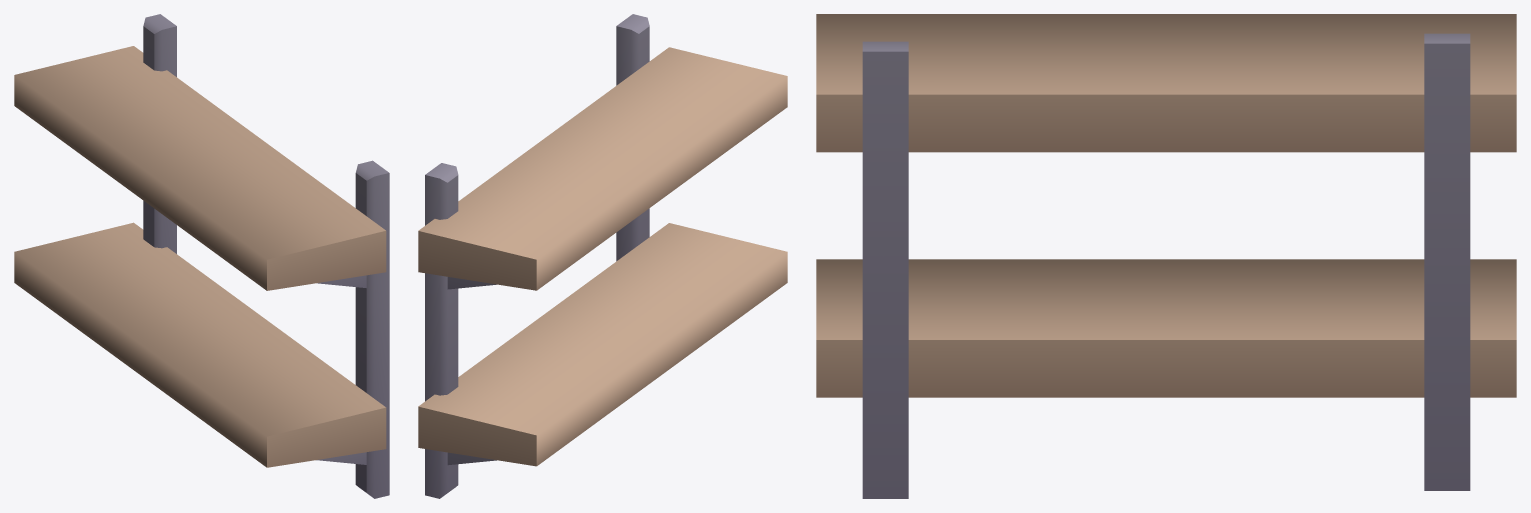
Rendered from shelf-rail-long (%wall)_0.glb.
3 views of the same model, side by side, from view 1: azimuth 30°, elevation 25°; view 2: azimuth 150°, elevation 25°; view 3: azimuth 270°, elevation 25° (orthographic). The views are drawn at different scales.
Visible parts, largest first — view 1: shelf-rail-long (%wall); view 2: shelf-rail-long (%wall); view 3: shelf-rail-long (%wall).
Part boxes in pixels (left/top/right/bottom): shelf-rail-long (%wall): left=14, top=14, right=389, bottom=498; shelf-rail-long (%wall): left=418, top=14, right=787, bottom=498; shelf-rail-long (%wall): left=816, top=14, right=1516, bottom=498.
Bounding box in the file's own units: 0.35 × 0.7771 × 1.1.
